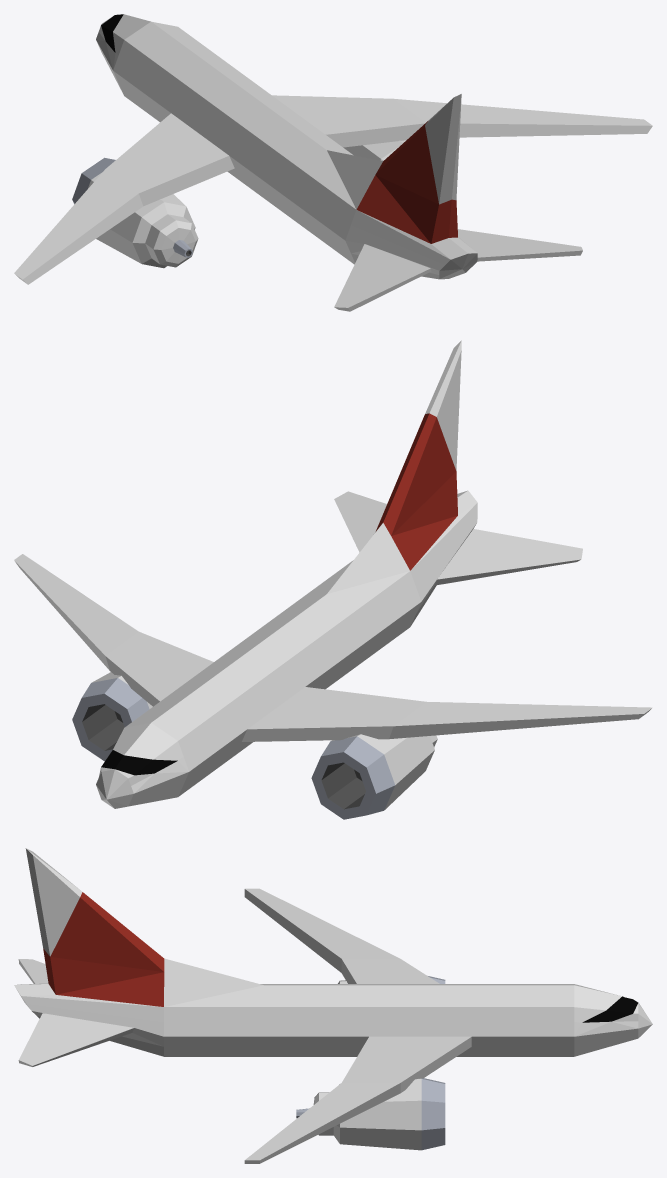
The picture shows the model from 3 angles, top to bottom: view 1: azimuth 30°, elevation 25°; view 2: azimuth 150°, elevation 25°; view 3: azimuth 270°, elevation 25°; orthographic projection. The views are drawn at different scales.
Visible parts, largest first — view 1: Cylinder.005, Cylinder.006; view 2: Cylinder.005, Cylinder.006; view 3: Cylinder.005, Cylinder.006.
Part boxes in pixels (x1=…): Cylinder.005: x1=14, y1=14, x2=652, y2=311; Cylinder.006: x1=72, y1=140, x2=405, y2=268; Cylinder.005: x1=14, y1=340, x2=652, y2=808; Cylinder.006: x1=72, y1=672, x2=437, y2=819; Cylinder.005: x1=14, y1=848, x2=652, y2=1163; Cylinder.006: x1=296, y1=976, x2=445, y2=1150.
Bounding box in the file's own units: 8221 × 3520 × 8172.
